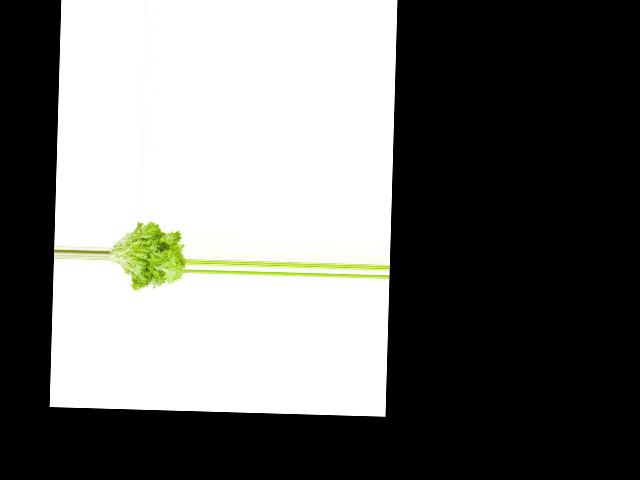lettuce: (106, 217, 186, 292)
